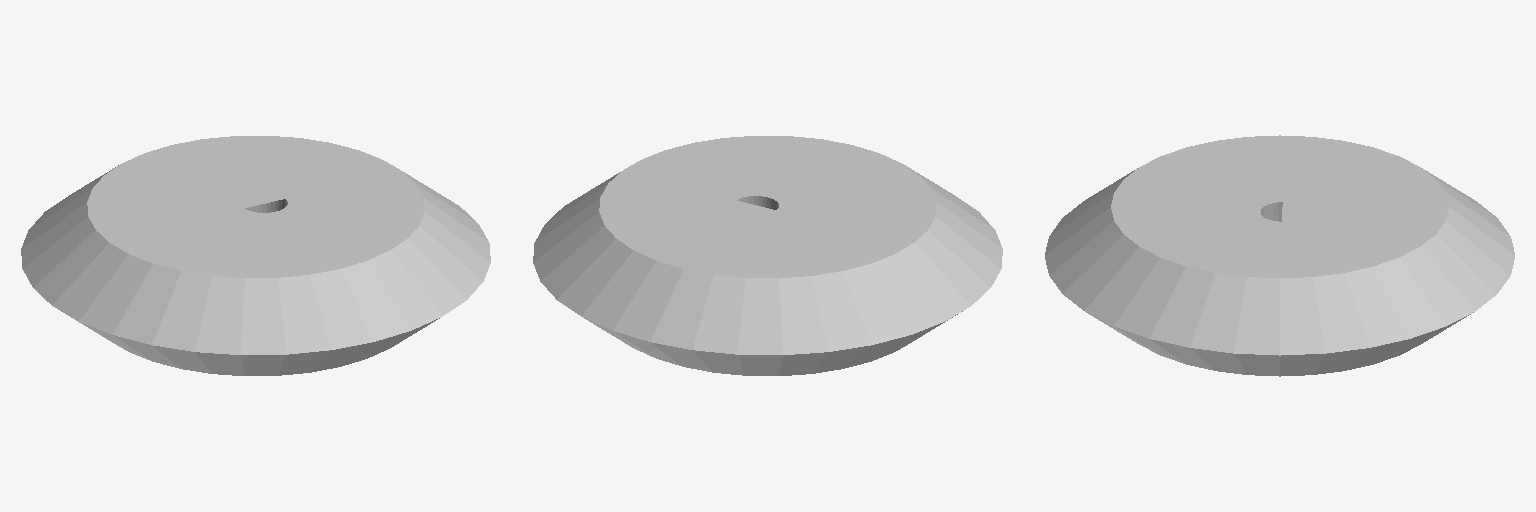
File: load2.obj
3 views of the same model, side by side, from view 1: azimuth 30°, elevation 25°; view 2: azimuth 150°, elevation 25°; view 3: azimuth 270°, elevation 25° (orthographic).
Visible parts, largest first — view 1: Cylinder.004_Cylinder.006; view 2: Cylinder.004_Cylinder.006; view 3: Cylinder.004_Cylinder.006.
Part boxes in pixels (x1,y1,x2,y2): Cylinder.004_Cylinder.006: (21,136,490,375); Cylinder.004_Cylinder.006: (533,136,1002,375); Cylinder.004_Cylinder.006: (1045,135,1514,376).
Size of the model in its own units: 0.6552 by 0.1505 by 0.6552.